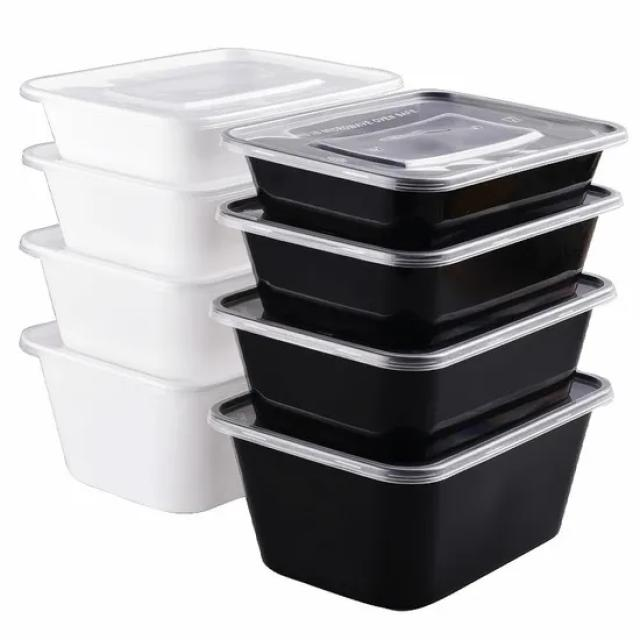plastic_box: (14, 39, 609, 606), (199, 371, 632, 616), (213, 63, 638, 262), (17, 299, 272, 543)
